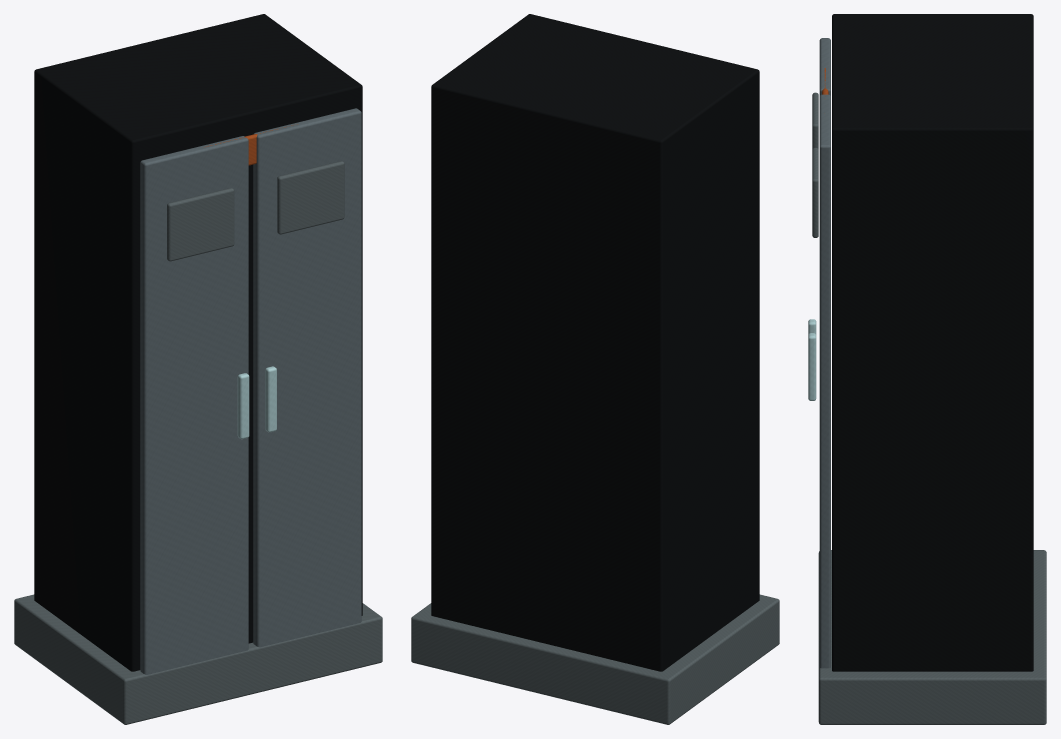
File: UtilityLocker.fbx
The picture shows the model from 3 angles, left to right: view 1: azimuth 30°, elevation 25°; view 2: azimuth 150°, elevation 25°; view 3: azimuth 270°, elevation 25°; orthographic projection. The views are drawn at different scales.
Parts seen in each view (by area): view 1: UtilityLocker_Mesh; view 2: UtilityLocker_Mesh; view 3: UtilityLocker_Mesh.
Part boxes in pixels (left/top/right/bottom): UtilityLocker_Mesh: left=14, top=14, right=382, bottom=724; UtilityLocker_Mesh: left=411, top=14, right=779, bottom=724; UtilityLocker_Mesh: left=808, top=14, right=1046, bottom=724.
Bounding box in the file's own units: 94 × 200 × 73.25.
